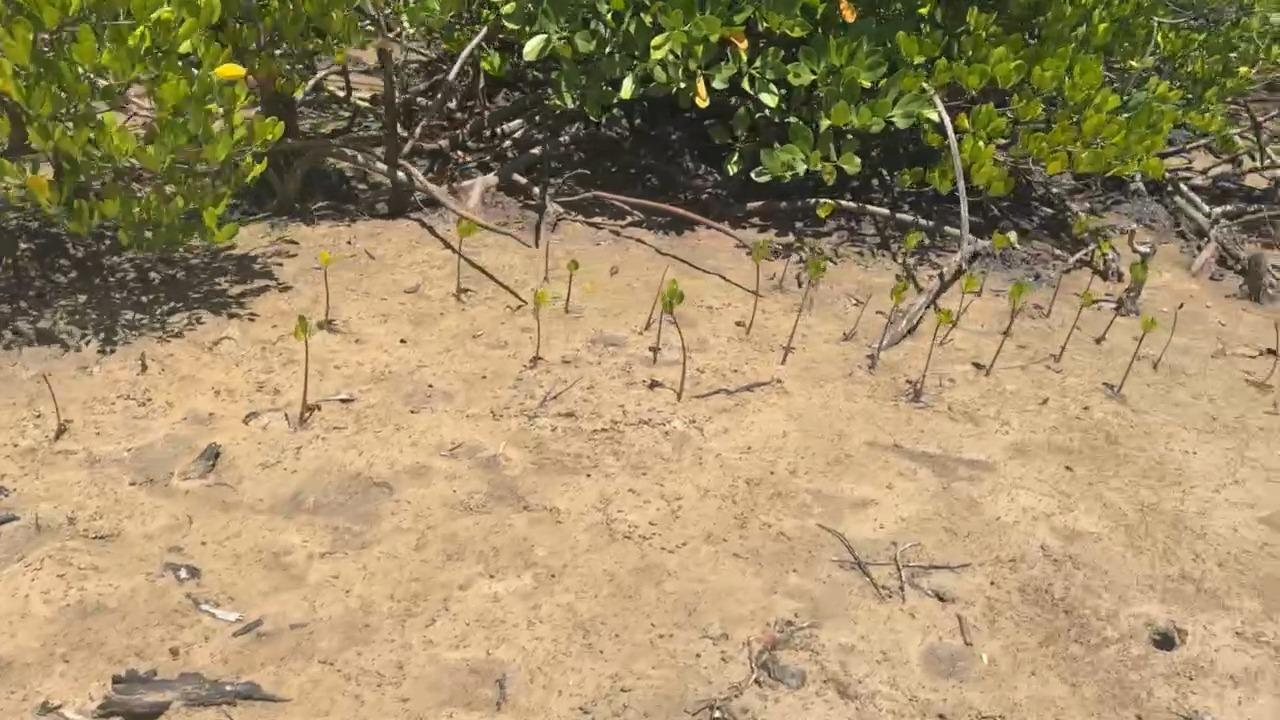Tree: (780, 254, 826, 367), (1097, 262, 1149, 343), (1116, 317, 1159, 394), (661, 279, 687, 401), (917, 308, 953, 396), (985, 302, 1027, 377), (872, 282, 909, 365), (745, 238, 772, 334), (1057, 295, 1095, 362), (1155, 302, 1187, 370), (977, 229, 1010, 294), (295, 314, 314, 425), (454, 217, 478, 293), (644, 264, 670, 332), (1003, 278, 1031, 336), (1084, 236, 1112, 294), (938, 300, 974, 345), (955, 270, 981, 324), (531, 292, 550, 356), (44, 374, 61, 440), (901, 232, 926, 276), (563, 259, 581, 313), (319, 249, 332, 322), (1046, 276, 1064, 318), (652, 310, 663, 364), (544, 239, 551, 282)
